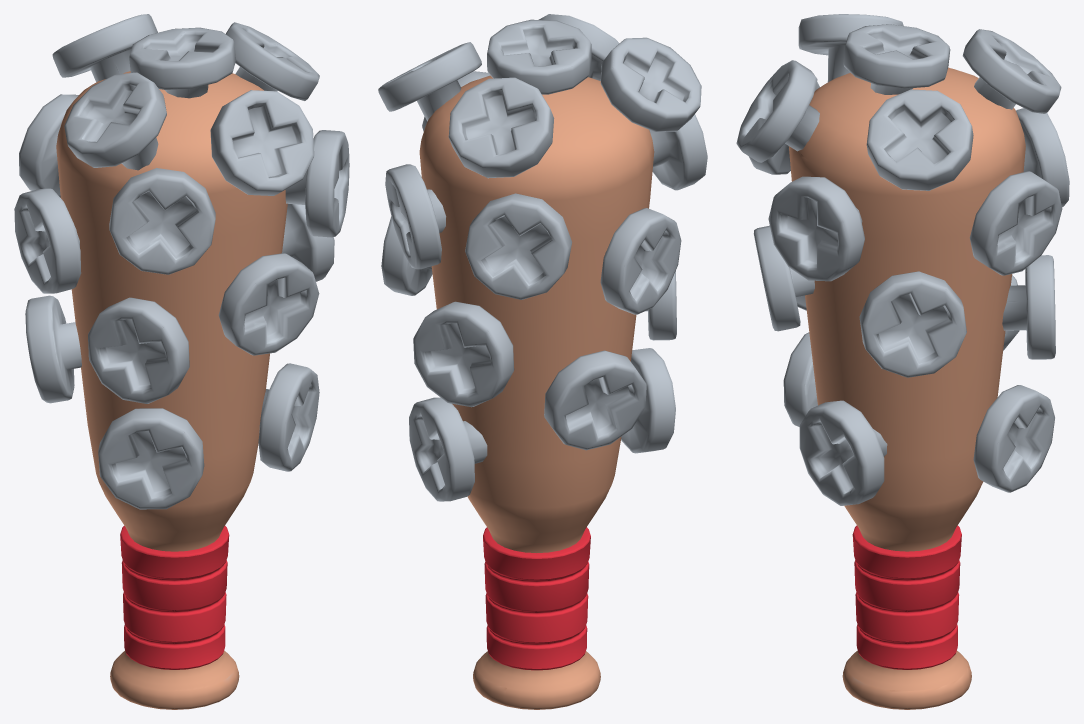
The model's file is Bat.fbx.
The picture shows the model from 3 angles, left to right: view 1: azimuth 30°, elevation 25°; view 2: azimuth 150°, elevation 25°; view 3: azimuth 270°, elevation 25°; orthographic projection.
Visible parts, largest first — view 1: Bat; view 2: Bat; view 3: Bat.
Part boxes in pixels (x1=…): Bat: x1=14, y1=14, x2=349, y2=709; Bat: x1=378, y1=14, x2=707, y2=709; Bat: x1=736, y1=14, x2=1069, y2=709.
Bounding box in the file's own units: 79.74 × 178 × 82.66.
